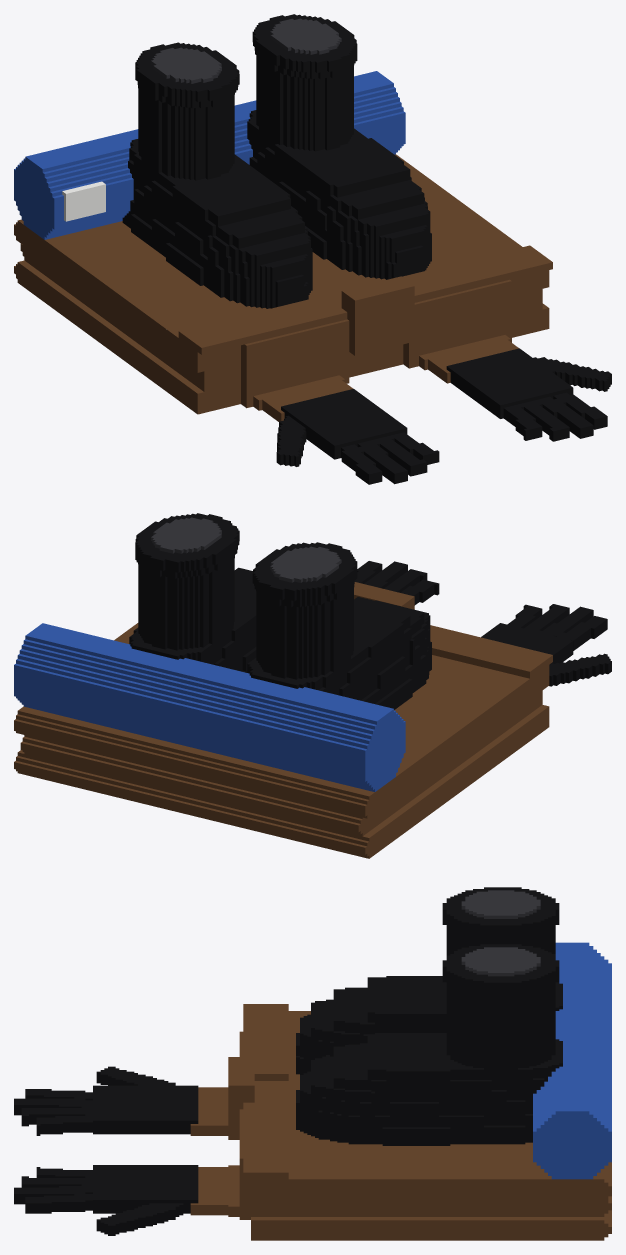
File: robofac_enviro_suit_casual.glb
3 views of the same model, one above another, from view 1: azimuth 30°, elevation 25°; view 2: azimuth 150°, elevation 25°; view 3: azimuth 270°, elevation 25° (orthographic).
Visible parts, largest first — view 1: robofac_enviro_suit_casual:compound; view 2: robofac_enviro_suit_casual:compound; view 3: robofac_enviro_suit_casual:compound.
Part boxes in pixels (bbox=[...]): robofac_enviro_suit_casual:compound: bbox=[14, 14, 611, 484]; robofac_enviro_suit_casual:compound: bbox=[14, 513, 611, 858]; robofac_enviro_suit_casual:compound: bbox=[14, 887, 611, 1240].
Size of the model in its own units: 0.424 by 0.264 by 0.636.
